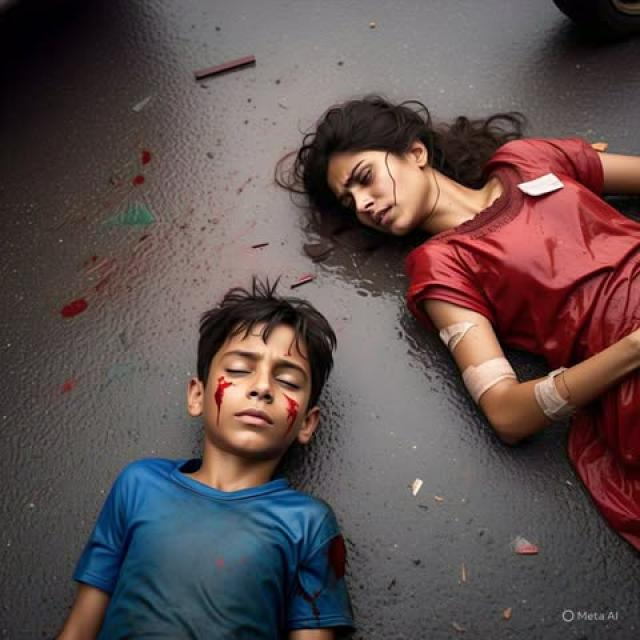injury: (276, 95, 516, 260), (184, 277, 336, 491), (463, 357, 516, 403), (535, 368, 572, 419), (440, 321, 475, 352), (213, 376, 231, 425), (287, 395, 299, 431)
